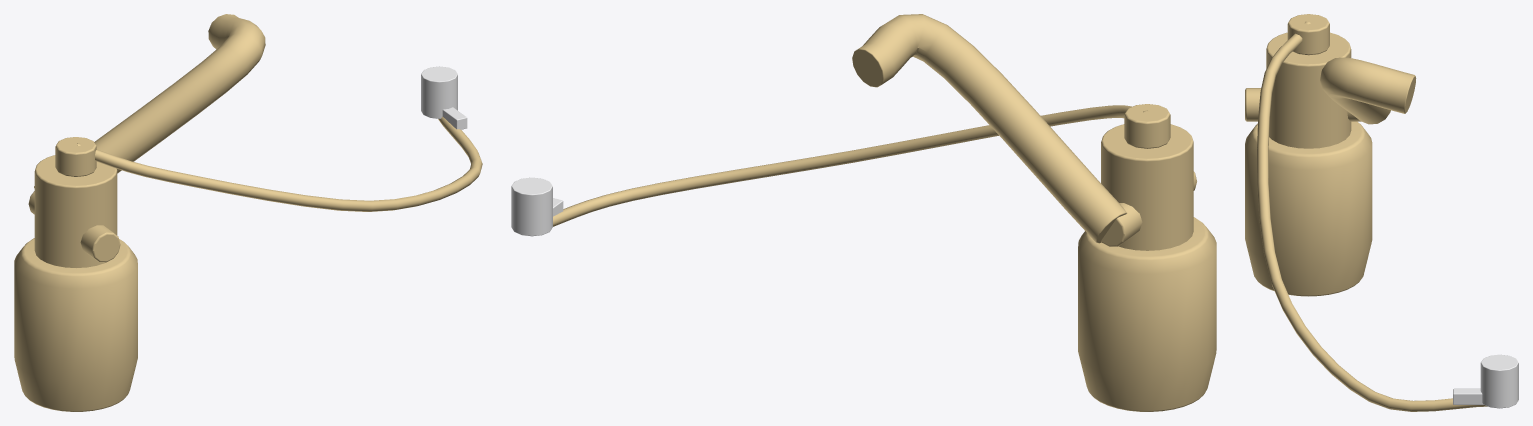
Rendered from bike_pioneer__carb.glb.
3 views of the same model, side by side, from view 1: azimuth 30°, elevation 25°; view 2: azimuth 150°, elevation 25°; view 3: azimuth 270°, elevation 25° (orthographic). The views are drawn at different scales.
Visible parts, largest first — view 1: powertrain__intake__float_chamber, powertrain__intake__carburettor, powertrain__intake__inlet_pipe, powertrain__fuel_system__fuel_line, powertrain__fuel_system__tap; view 2: powertrain__intake__float_chamber, powertrain__intake__inlet_pipe, powertrain__intake__carburettor, powertrain__fuel_system__fuel_line, powertrain__fuel_system__tap; view 3: powertrain__intake__float_chamber, powertrain__intake__carburettor, powertrain__fuel_system__fuel_line, powertrain__intake__inlet_pipe, powertrain__fuel_system__tap.
Part boxes in pixels (x1=…): powertrain__intake__float_chamber: x1=14, y1=238, x2=137, y2=411; powertrain__intake__carburettor: x1=28, y1=137, x2=120, y2=267; powertrain__intake__inlet_pipe: x1=34, y1=14, x2=265, y2=188; powertrain__fuel_system__fuel_line: x1=77, y1=117, x2=482, y2=211; powertrain__fuel_system__tap: x1=421, y1=66, x2=467, y2=129; powertrain__intake__float_chamber: x1=1078, y1=217, x2=1216, y2=411; powertrain__intake__inlet_pipe: x1=852, y1=14, x2=1127, y2=243; powertrain__intake__carburettor: x1=1101, y1=104, x2=1196, y2=250; powertrain__fuel_system__fuel_line: x1=553, y1=105, x2=1149, y2=226; powertrain__fuel_system__tap: x1=511, y1=177, x2=563, y2=236; powertrain__intake__float_chamber: x1=1245, y1=121, x2=1372, y2=296; powertrain__intake__carburettor: x1=1245, y1=14, x2=1361, y2=148; powertrain__fuel_system__fuel_line: x1=1257, y1=21, x2=1487, y2=411; powertrain__intake__inlet_pipe: x1=1320, y1=57, x2=1416, y2=124; powertrain__fuel_system__tap: x1=1453, y1=354, x2=1518, y2=408.
Size of the model in its own units: 29.4 by 16.29 by 12.9.
